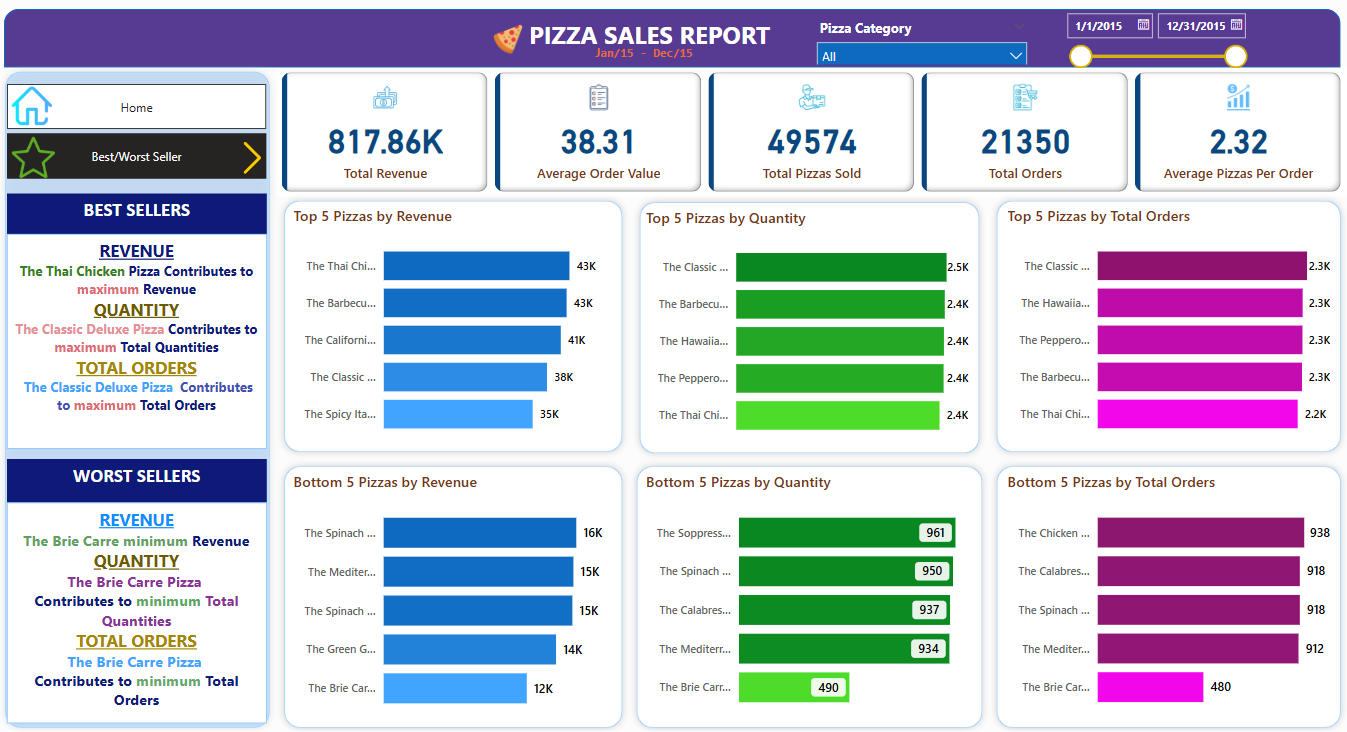

The page's visual inventory and layout, read from the dashboard file:
{"tool":"powerbi","page":{"name":"Best/Worst Seller","canvas":[1500,820],"ordinal":1},"visuals":[{"type":"cardVisual","fields":{"Data":["pizza_sales.Total Revenue","pizza_sales.Average Order Value","pizza_sales.Total Pizzas Sold","pizza_sales.Total Orders","pizza_sales.Average Pizzas Per Order"]},"box":[310,78.3,1190,143.3],"z":0},{"type":"shape","box":[6.7,13.3,1485,65],"z":1000},{"type":"textbox","box":[585,18.3,293.3,56.7],"z":2000},{"type":"textbox","box":[658.3,46.7,146.7,28.3],"z":3000},{"type":"image","box":[536.7,25,60,43.3],"z":4000},{"type":"shape","box":[310,218.3,391.7,295],"z":5000},{"type":"shape","box":[0,75,310,745],"z":11000},{"type":"textbox","box":[10,218.3,288.3,45],"z":16000},{"type":"textbox","box":[10,263.3,288.3,238.3],"z":17000},{"type":"textbox","box":[10,513.3,288.3,48.3],"z":18000},{"type":"textbox","box":[10,561.7,288.3,245],"z":19000},{"type":"slicer","fields":{"Values":["pizza_sales.pizza_category"]},"box":[900,18.3,253.3,56.7],"z":20000},{"type":"slicer","fields":{"Values":["pizza_sales.order_date"]},"box":[1175,8.3,221.7,81.7],"z":21000},{"type":"shape","box":[705,220,393.3,295],"z":21001},{"type":"shape","box":[1101.7,218.3,398.3,295],"z":21002},{"type":"shape","box":[310,513.3,391.7,306.7],"z":21003},{"type":"shape","box":[701.7,513.3,400,306.7],"z":21004},{"type":"shape","box":[1101.7,513.3,398.3,306.7],"z":21005},{"type":"barChart","title":"Top 5 Pizzas by Revenue","fields":{"Category":["pizza_sales.pizza_name"],"Y":["pizza_sales.Total Revenue"]},"box":[323.3,231.7,366.7,270],"z":21006},{"type":"barChart","title":"Bottom 5 Pizzas by Revenue","fields":{"Category":["pizza_sales.pizza_name"],"Y":["pizza_sales.Total Revenue"]},"box":[323.3,526.7,366.7,281.7],"z":21007},{"type":"barChart","title":"Top 5 Pizzas by Quantity","fields":{"Category":["pizza_sales.pizza_name"],"Y":["pizza_sales.Total Pizzas Sold"]},"box":[715,233.3,368.3,270],"z":21008},{"type":"barChart","title":"Bottom 5 Pizzas by Quantity","fields":{"Category":["pizza_sales.pizza_name"],"Y":["pizza_sales.Total Pizzas Sold"]},"box":[715,526.7,380,280],"z":21009},{"type":"barChart","title":"Top 5 Pizzas by Total Orders","fields":{"Category":["pizza_sales.pizza_name"],"Y":["pizza_sales.Total Orders"]},"box":[1116.7,231.7,368.3,270],"z":21010},{"type":"barChart","title":"Bottom 5 Pizzas by Total Orders","fields":{"Category":["pizza_sales.pizza_name"],"Y":["pizza_sales.Total Orders"]},"box":[1116.7,526.7,368.3,280],"z":21011},{"type":"pageNavigator","box":[10,151.7,288.3,50],"z":21012},{"type":"pageNavigator","box":[10,96.7,288.3,50],"z":21013},{"type":"image","box":[255,155,55,46.7],"z":21014},{"type":"image","box":[10,93.3,55,55],"z":21015},{"type":"image","box":[10,148.3,58.3,60],"z":21016}]}

Visuals, with their boxes in screenshot pixels (x1, y1, x2, y2), scaled from the page's 1500x820 canvas onto the 1347x732 screenshot:
cardVisual - pizza_sales.Total Revenue x pizza_sales.Average Order Value: 278, 70, 1346, 198
shape: 6, 12, 1340, 70
textbox: 525, 16, 789, 67
textbox: 591, 42, 723, 67
image: 482, 22, 536, 61
shape: 278, 195, 630, 458
shape: 0, 67, 278, 731
textbox: 9, 195, 268, 235
textbox: 9, 235, 268, 448
textbox: 9, 458, 268, 501
textbox: 9, 501, 268, 720
slicer - pizza_sales.pizza_category: 808, 16, 1036, 67
slicer - pizza_sales.order_date: 1055, 7, 1254, 80
shape: 633, 196, 986, 460
shape: 989, 195, 1346, 458
shape: 278, 458, 630, 731
shape: 630, 458, 989, 731
shape: 989, 458, 1346, 731
"Top 5 Pizzas by Revenue" barChart: 290, 207, 620, 448
"Bottom 5 Pizzas by Revenue" barChart: 290, 470, 620, 722
"Top 5 Pizzas by Quantity" barChart: 642, 208, 973, 449
"Bottom 5 Pizzas by Quantity" barChart: 642, 470, 983, 720
"Top 5 Pizzas by Total Orders" barChart: 1003, 207, 1334, 448
"Bottom 5 Pizzas by Total Orders" barChart: 1003, 470, 1334, 720
pageNavigator: 9, 135, 268, 180
pageNavigator: 9, 86, 268, 131
image: 229, 138, 278, 180
image: 9, 83, 58, 132
image: 9, 132, 61, 186
